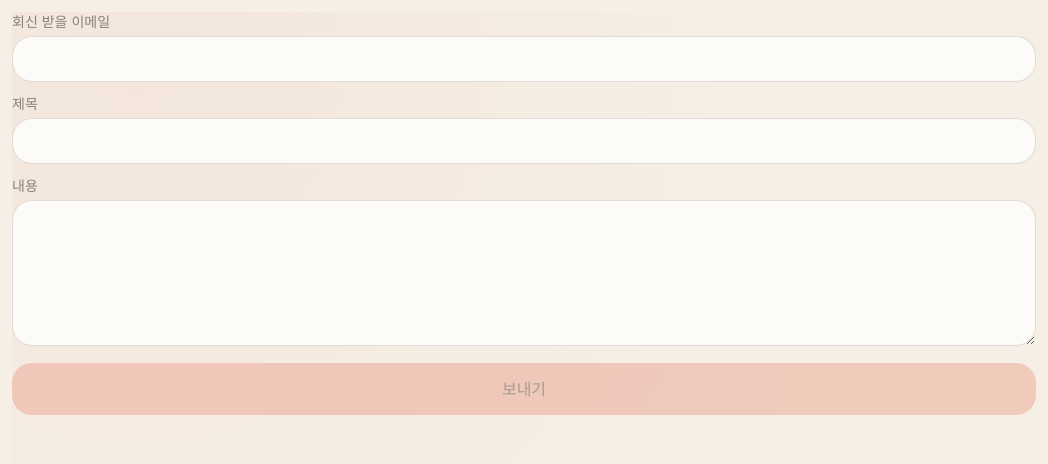
it: 문의 폼 (§9.2) › 서버 오류 결과면 접수가 어렵다는 오류 문구를 보여준다
Type "me@omni.app" into the field labelled "회신 받을 이메일" at (524, 59), box [12,36,1036,82]
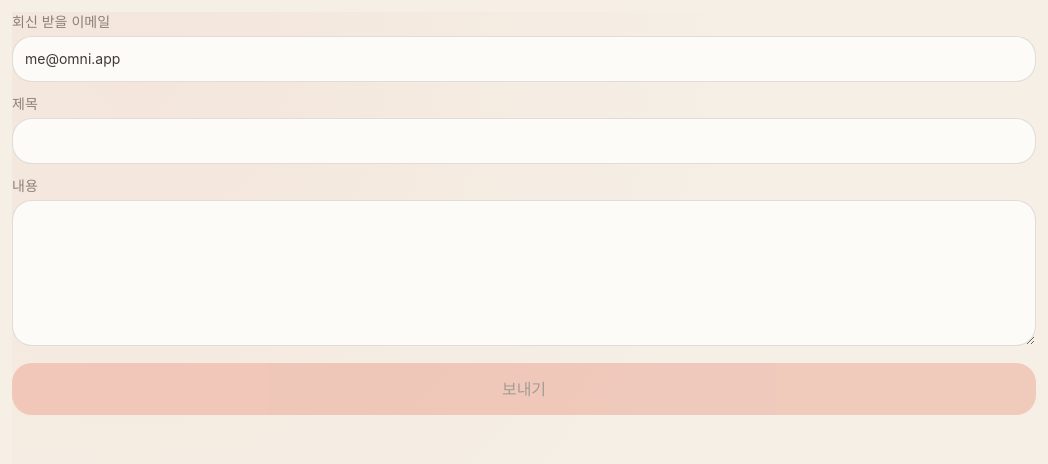
Type "문의 제목" into the field labelled "제목" at (524, 141), box [12,118,1036,164]
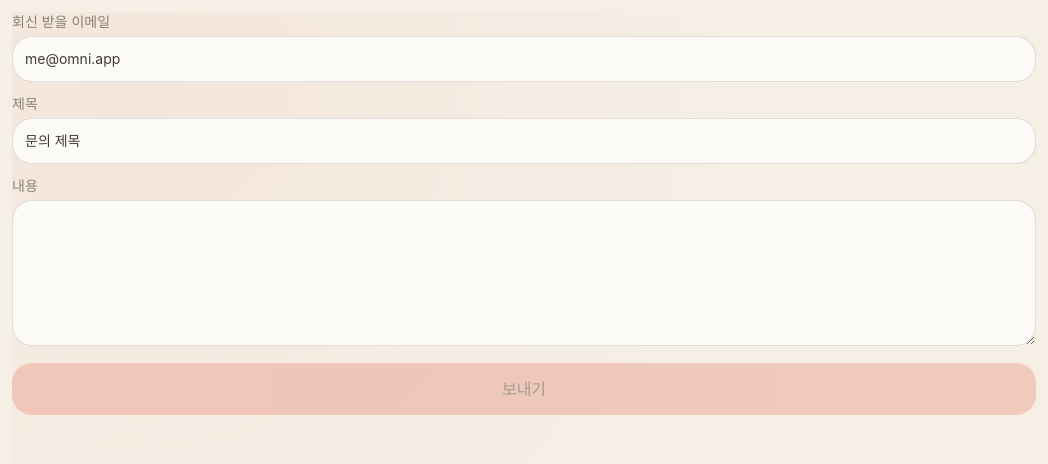
Type "문의 내용입니다" into the text box labelled "내용" at (524, 273), box [12,200,1036,346]
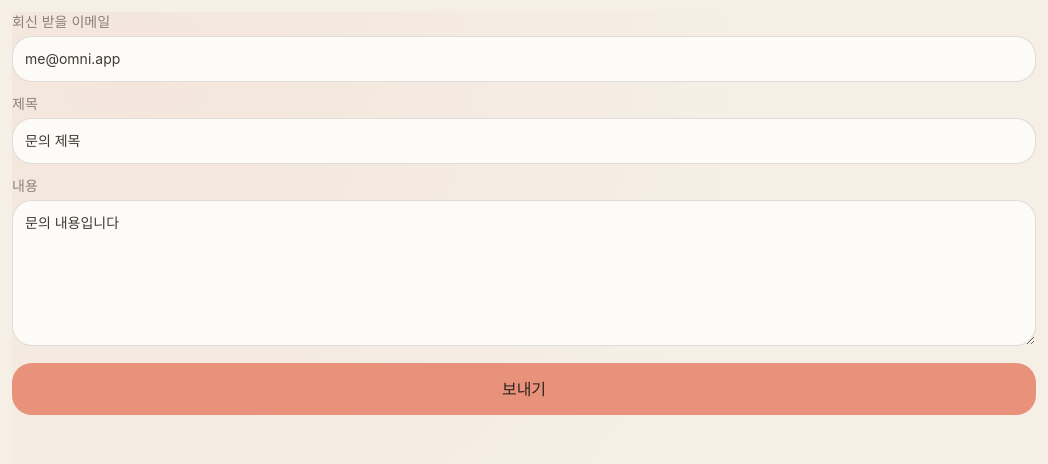
Click the button "보내기" at (524, 389), box [12,363,1036,415]
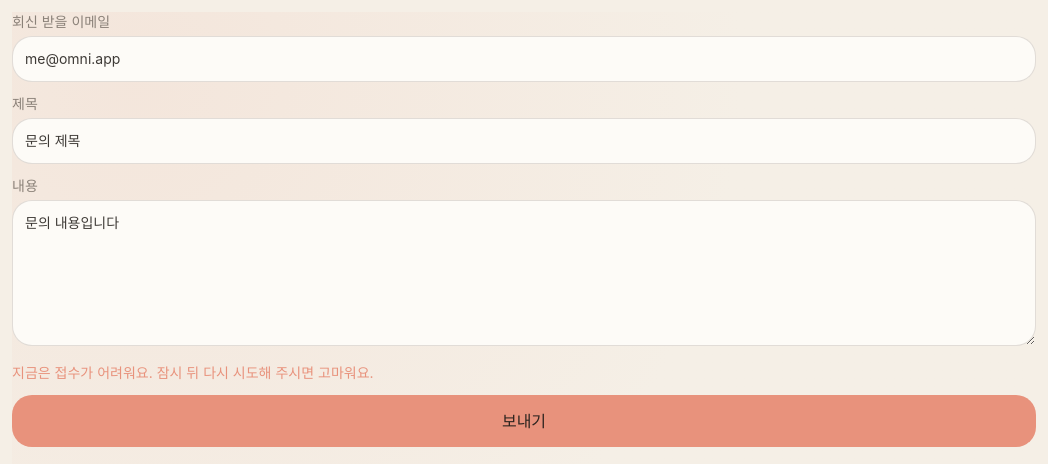
expect the button "보내기" is enabled: met, box [12,395,1036,447]
expect the text "지금은 접수가 어려워요. 잠시 뒤 다시 시도해 주시면 고마워요." is shown: met, box [12,364,374,381]
